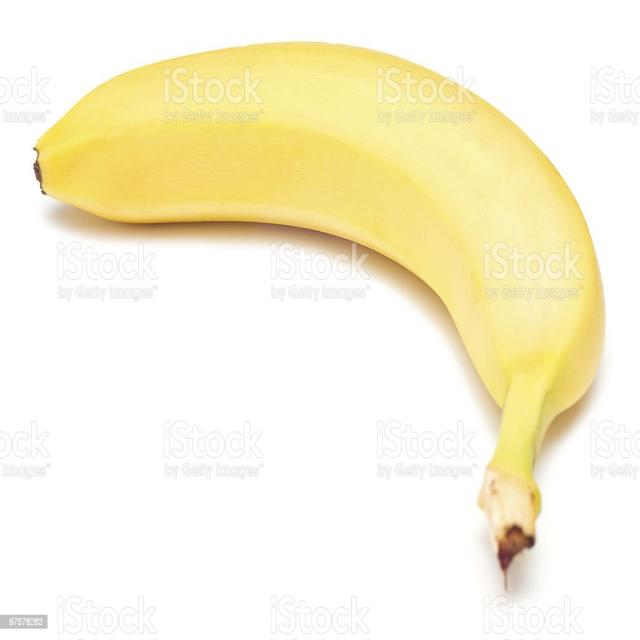non_orange: (29, 30, 609, 578)
